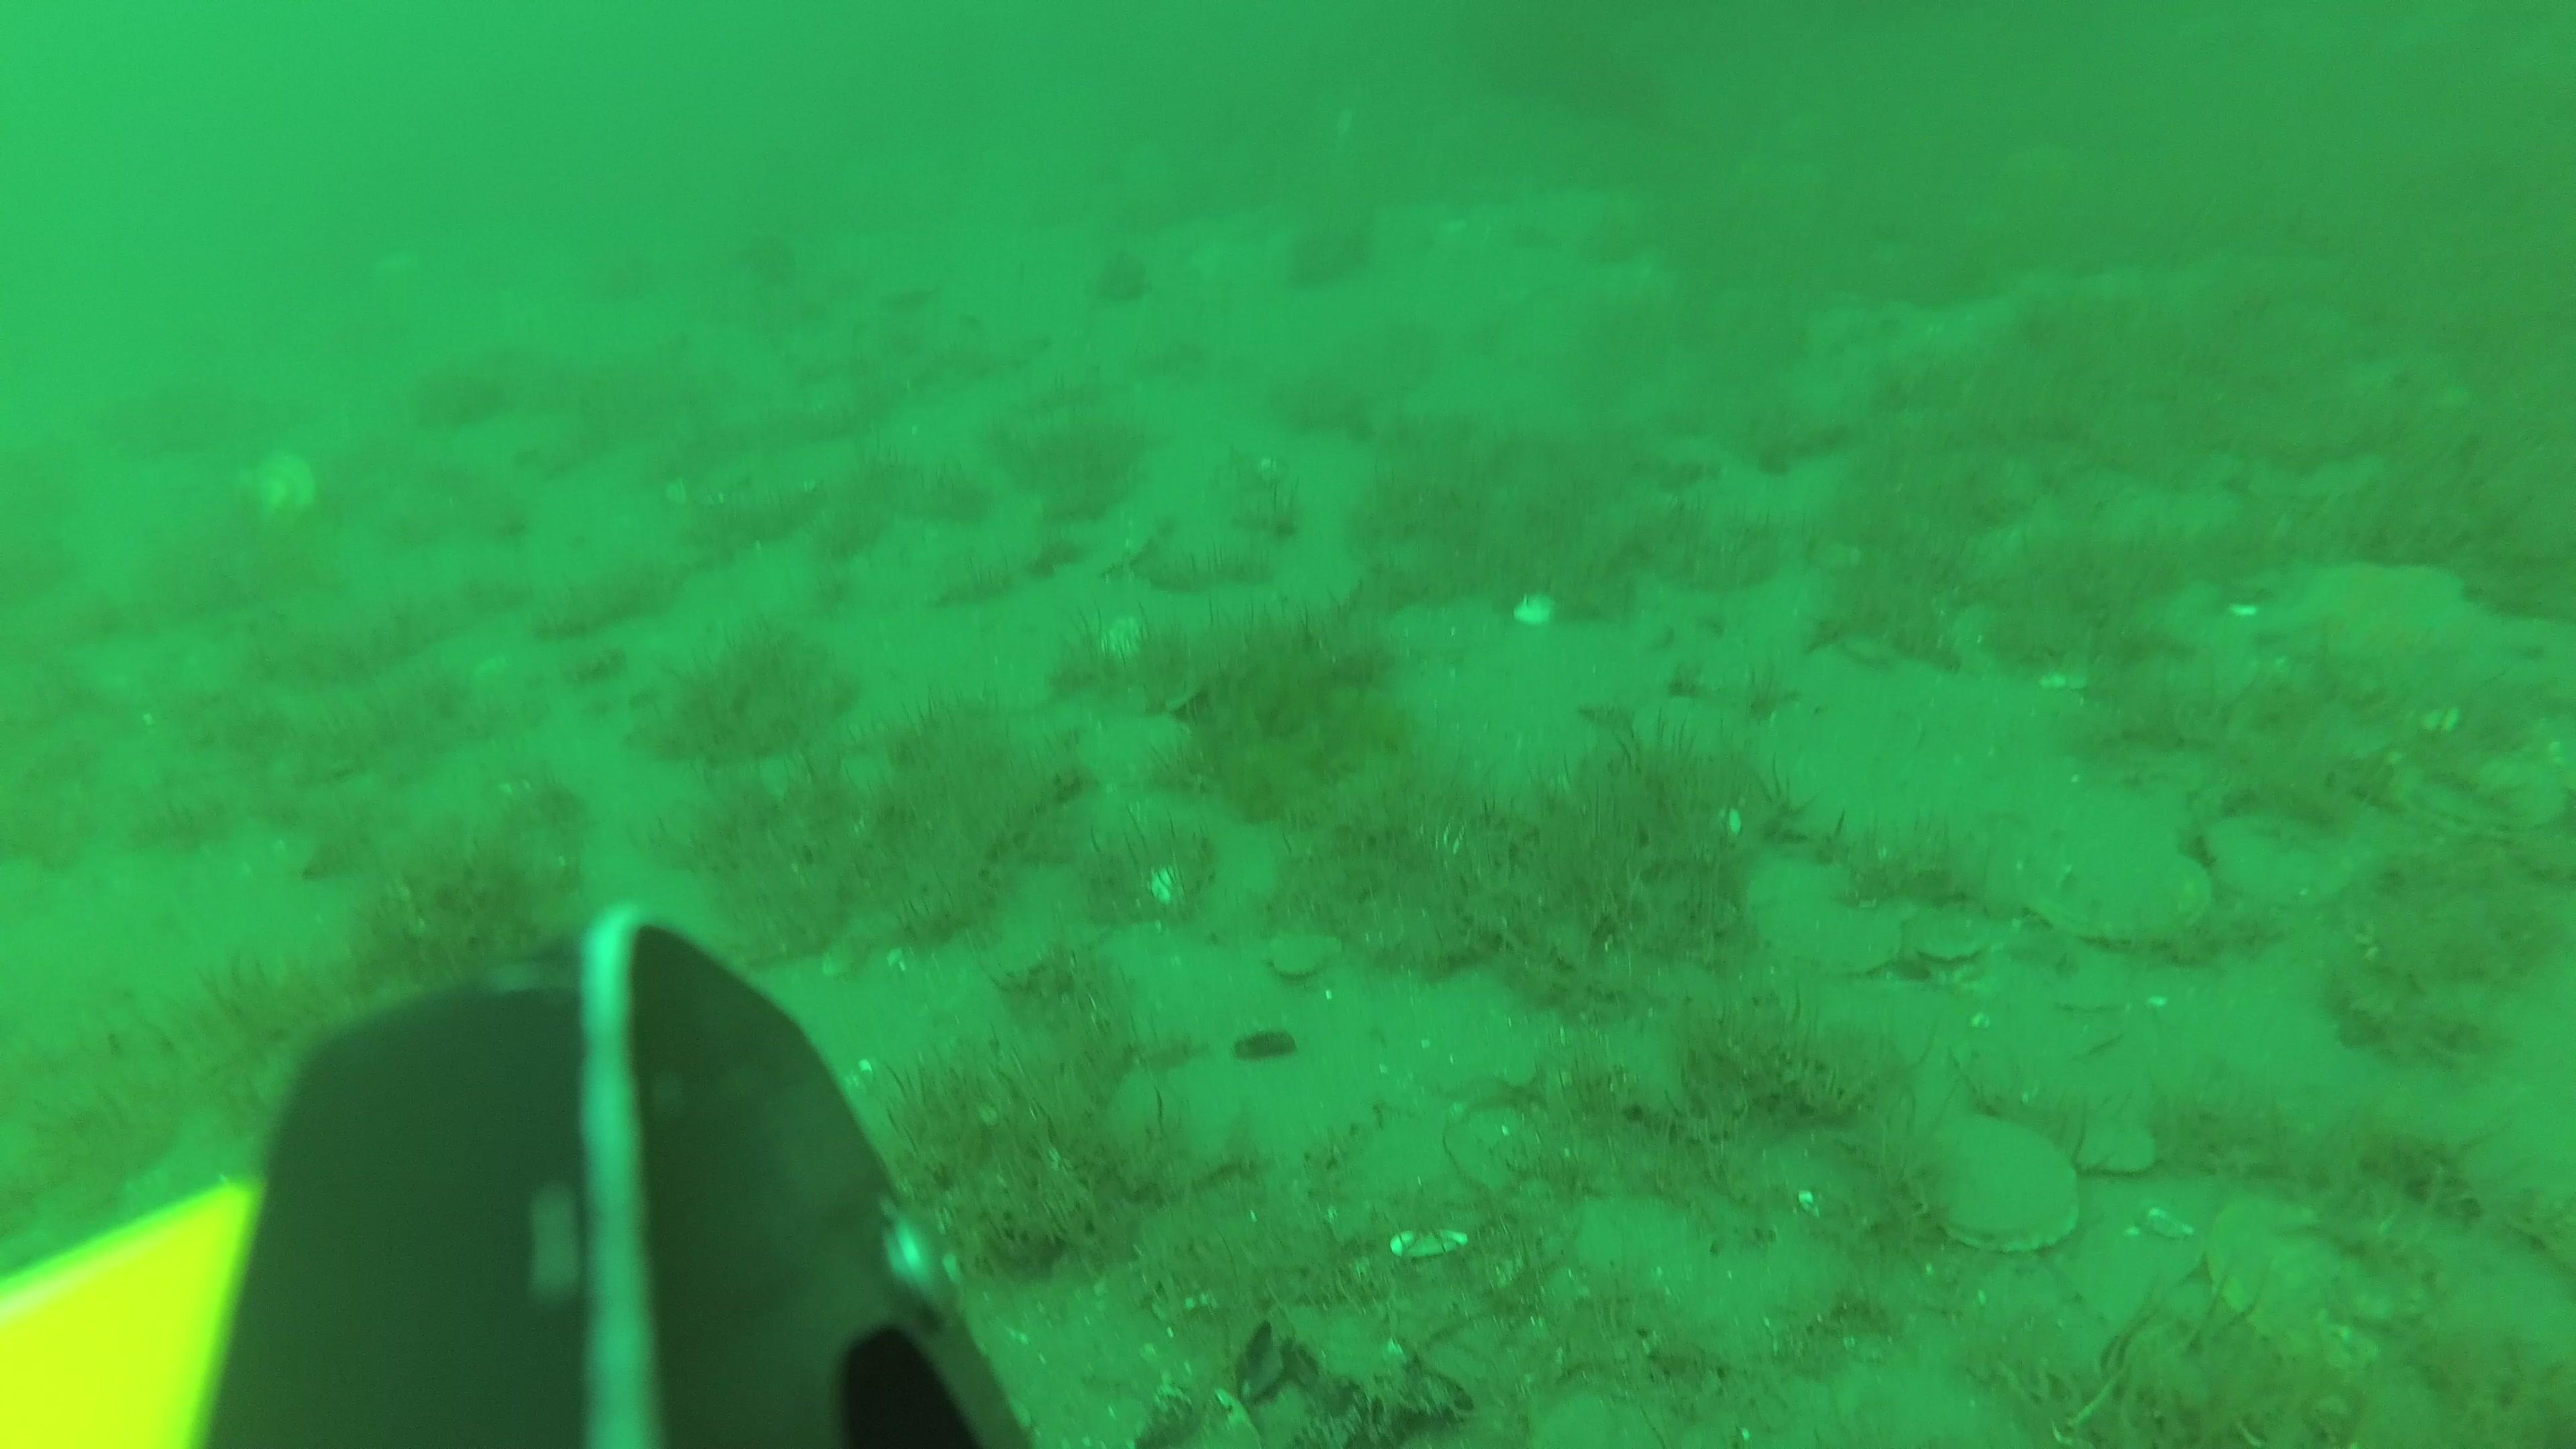scallop: (2208, 1191, 2385, 1371), (1905, 1111, 2079, 1254), (2022, 828, 2208, 947), (2215, 824, 2358, 913), (2404, 757, 2562, 833), (1771, 892, 1902, 971), (1079, 718, 1191, 793), (241, 449, 318, 527), (2074, 1123, 2162, 1178), (1267, 932, 1348, 982), (1920, 925, 1985, 962)
starfish: (2275, 561, 2486, 681)
